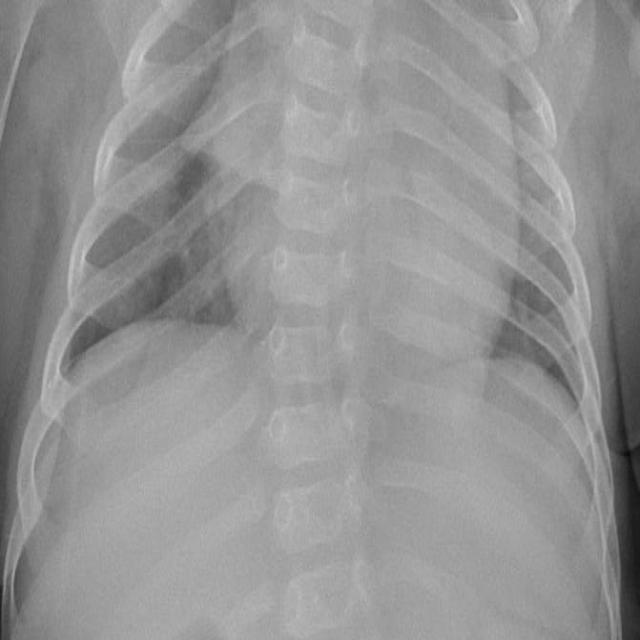high-pneumonia: (77, 104, 189, 345)
